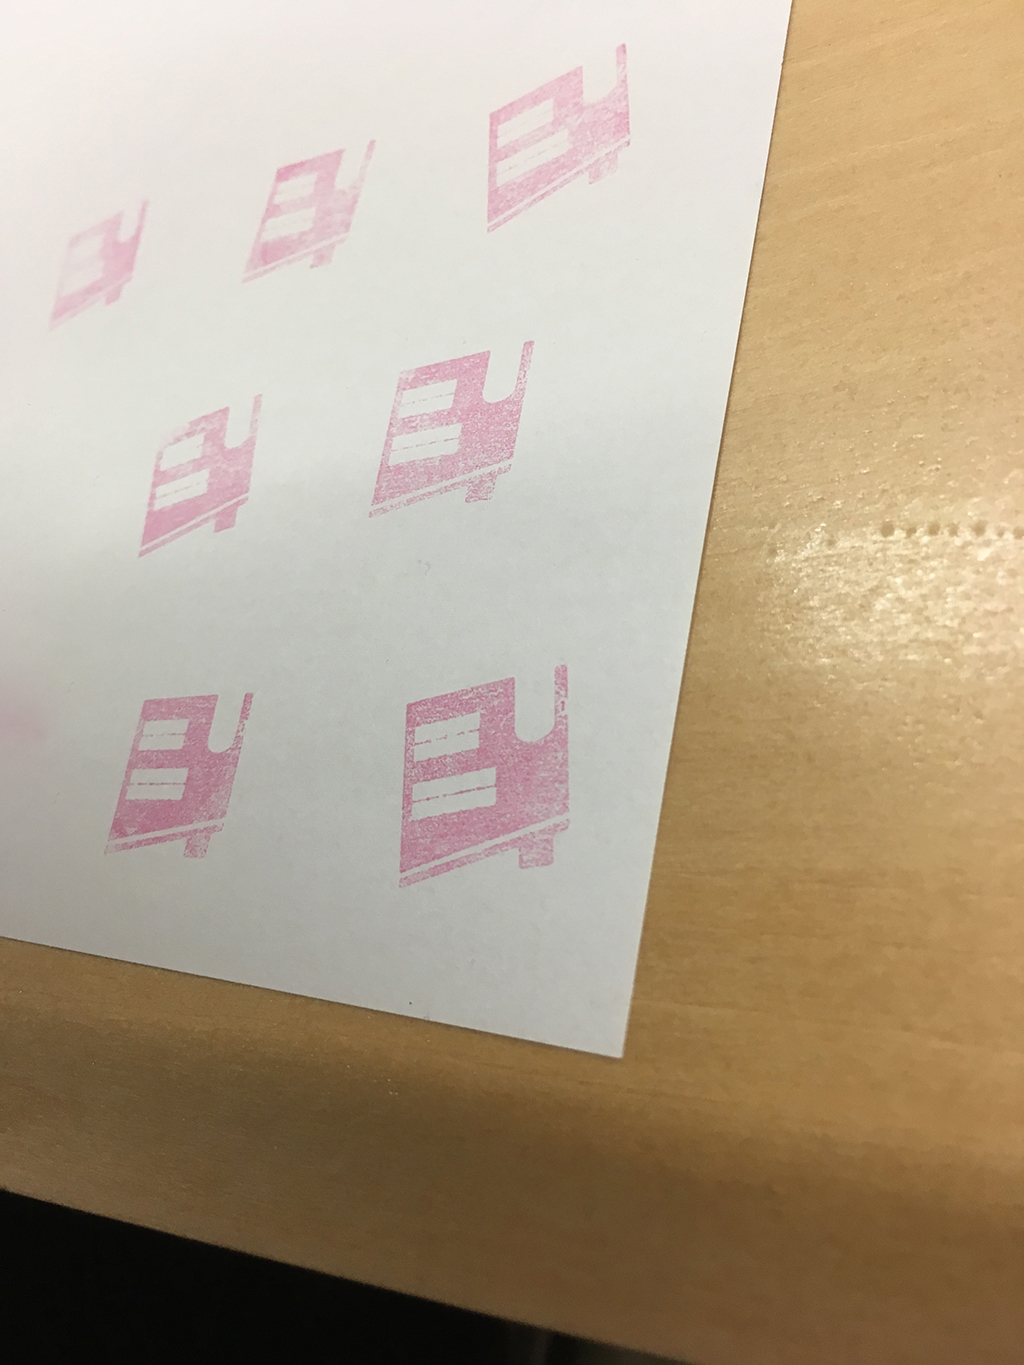house: (382, 652, 593, 896), (358, 323, 554, 531), (475, 31, 648, 247), (98, 681, 256, 879), (124, 385, 278, 570), (232, 128, 382, 300), (29, 188, 154, 343)
